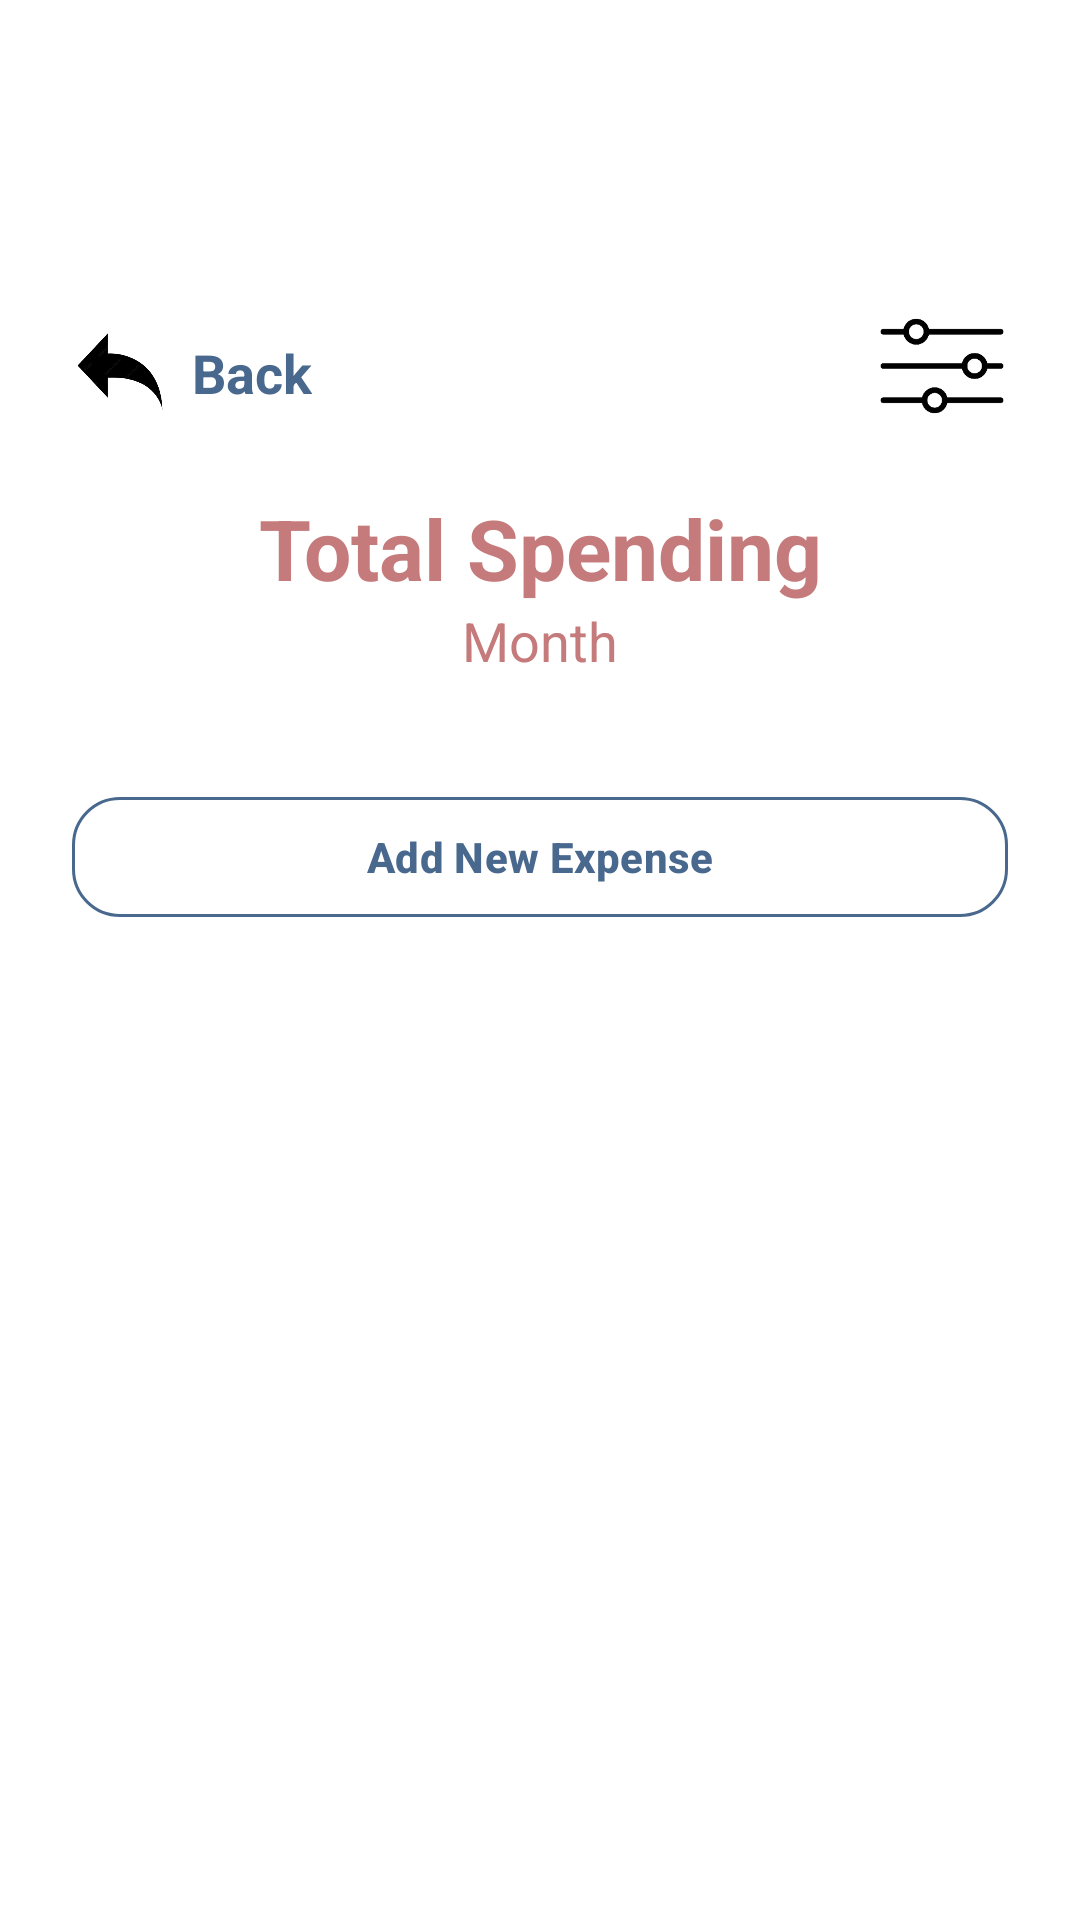

Icon bounding boxes for this 1080px×1920px phone screenshot, format (x1, y1, x2, y2):
Filter Records: (880, 319, 1004, 413)
